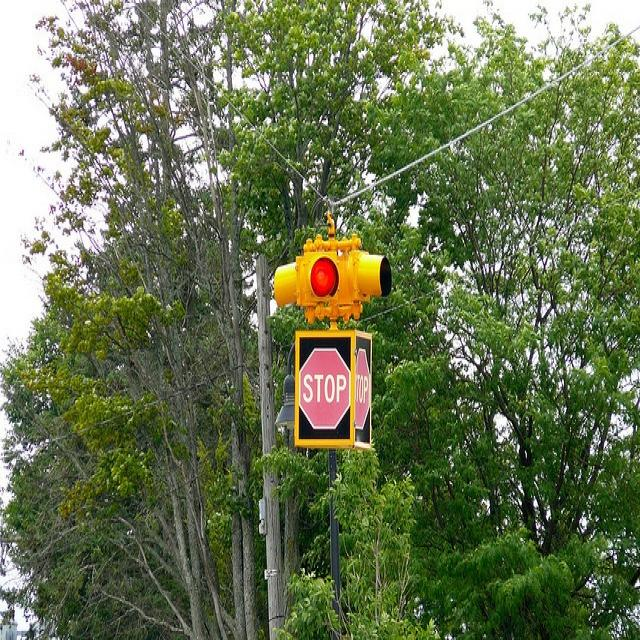pole: (250, 238, 288, 634), (326, 445, 345, 618)
